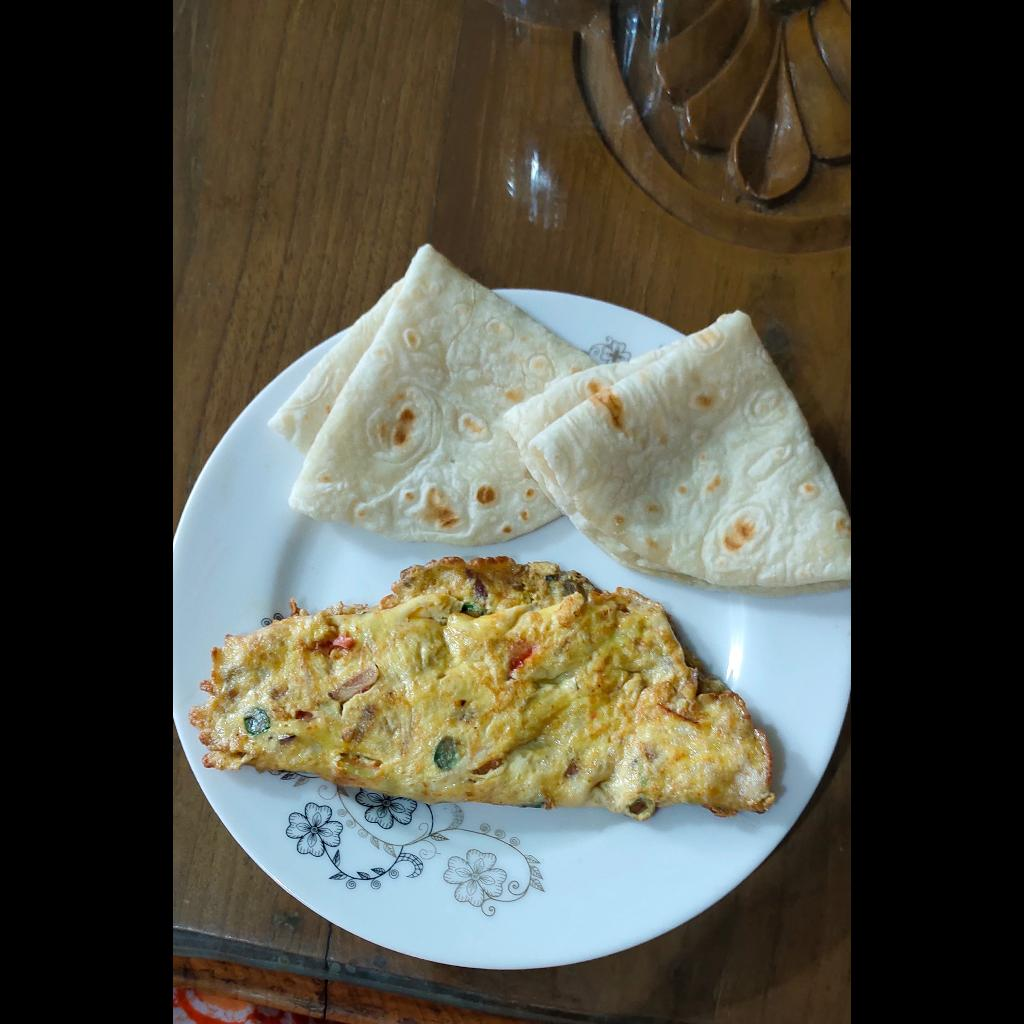egg-poached: (187, 550, 775, 821)
ruti: (270, 240, 851, 598)
